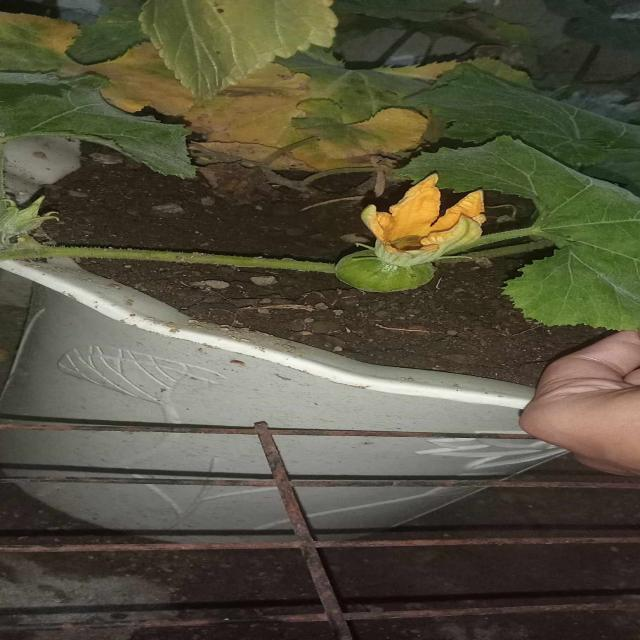flower: (356, 170, 490, 266)
squash: (332, 249, 437, 293)
